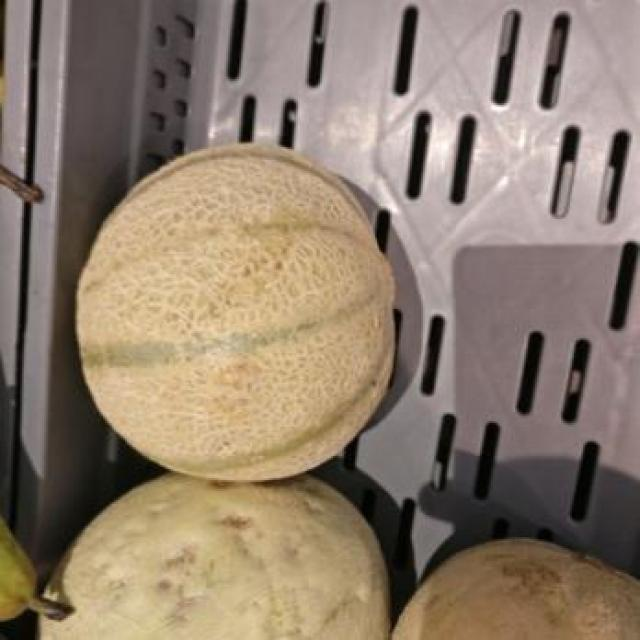Cantaloupe: (74, 142, 408, 482), (35, 473, 393, 639), (394, 539, 638, 639)
